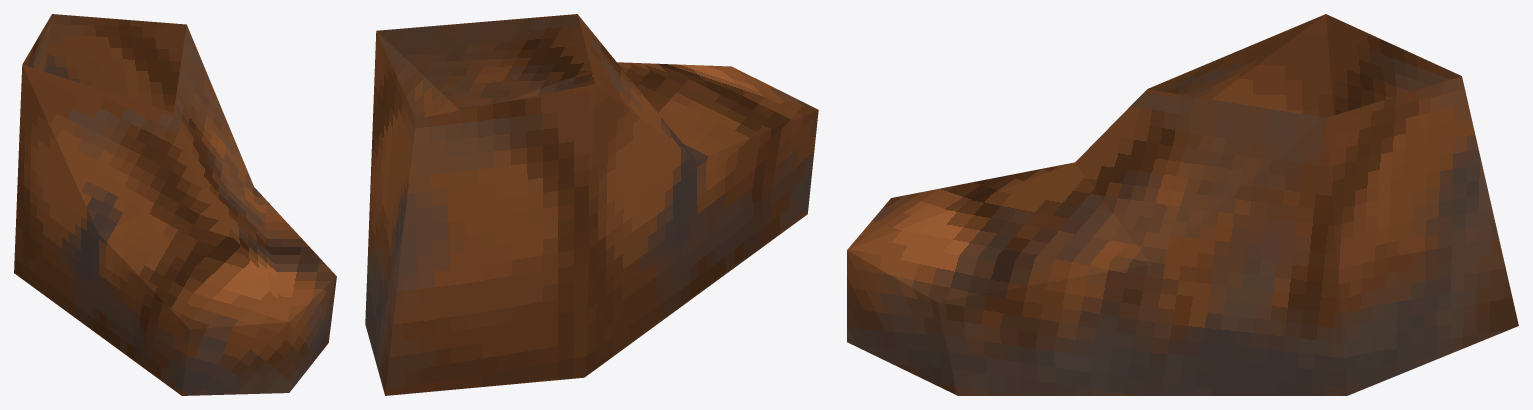
Rendered from bro_shoes.glb.
3 views of the same model, side by side, from view 1: azimuth 30°, elevation 25°; view 2: azimuth 150°, elevation 25°; view 3: azimuth 270°, elevation 25° (orthographic). The views are drawn at different scales.
Parts seen in each view (by area): view 1: Bro.013; view 2: Bro.013; view 3: Bro.013.
Boxes of the visible parts, <box> form: Bro.013: <box>14,14,336,395</box>; Bro.013: <box>365,14,818,395</box>; Bro.013: <box>847,14,1518,395</box>.
Size of the model in its own units: 0.2018 by 0.2512 by 0.5505.
1 material, 1 textured.
